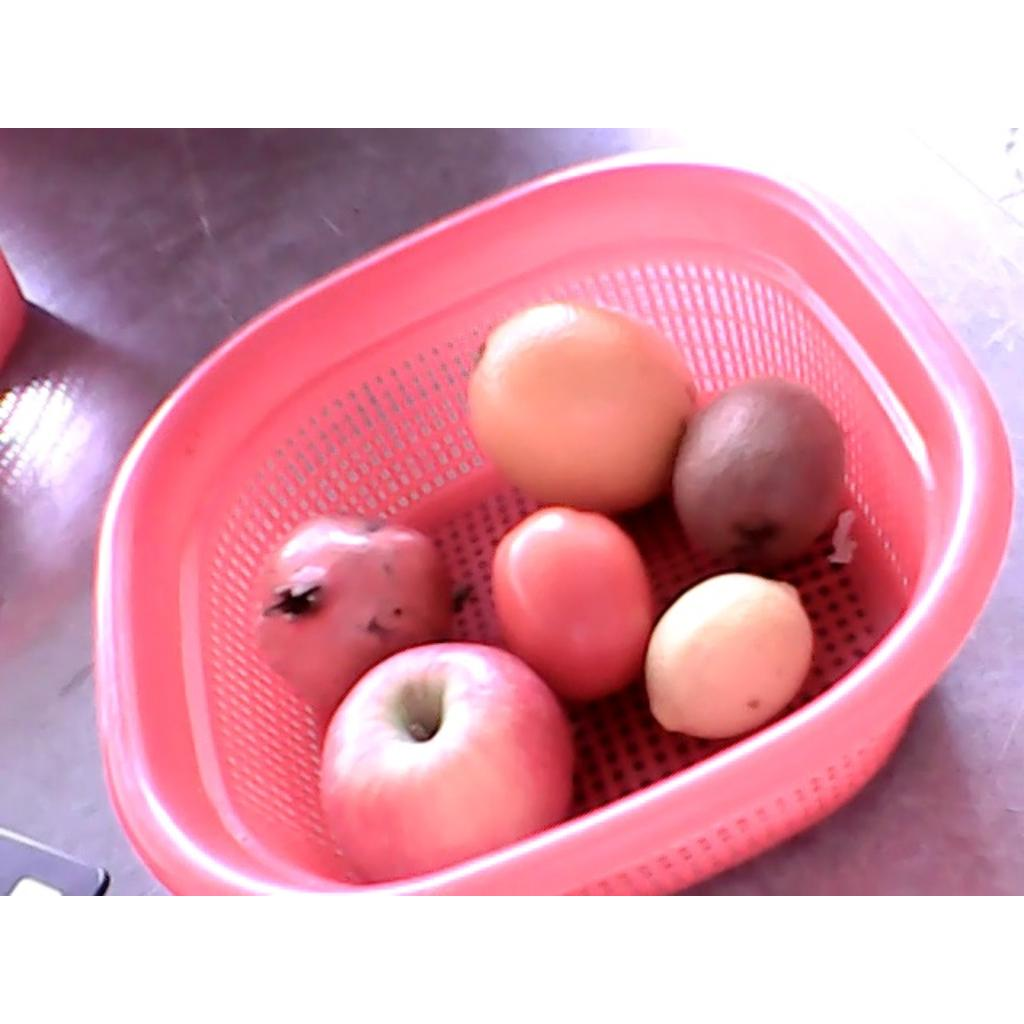apple: (318, 640, 577, 885)
kiwi: (673, 374, 845, 565)
lemon: (644, 572, 812, 739)
orange: (468, 303, 696, 514)
pomegranate: (242, 512, 447, 709)
tomato: (491, 508, 657, 701)
